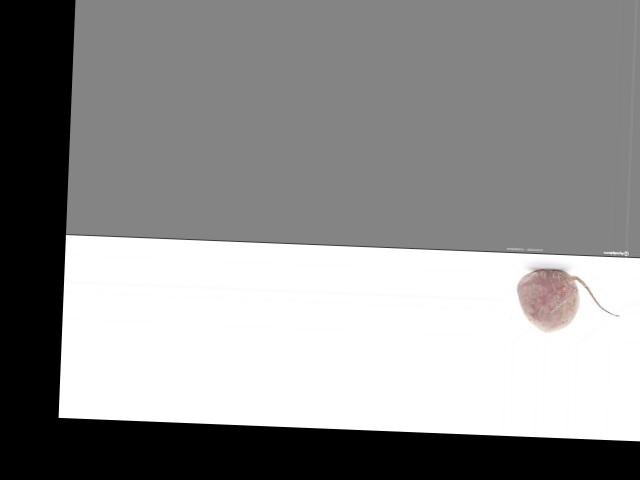beet: (514, 267, 621, 334)
